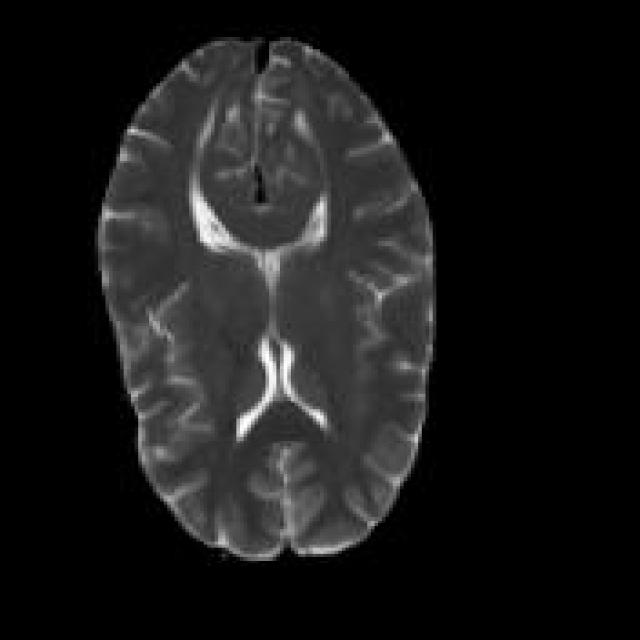CONTROL: (94, 31, 437, 560)
